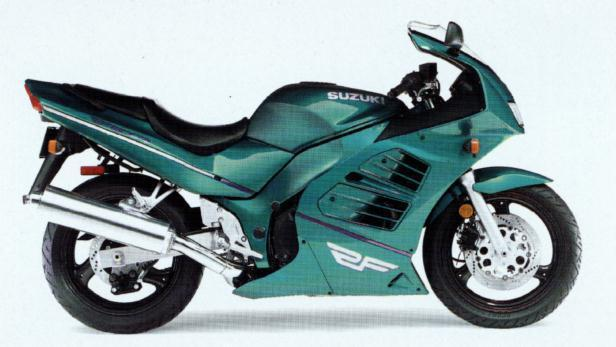motorcycle: (9, 11, 592, 337)
